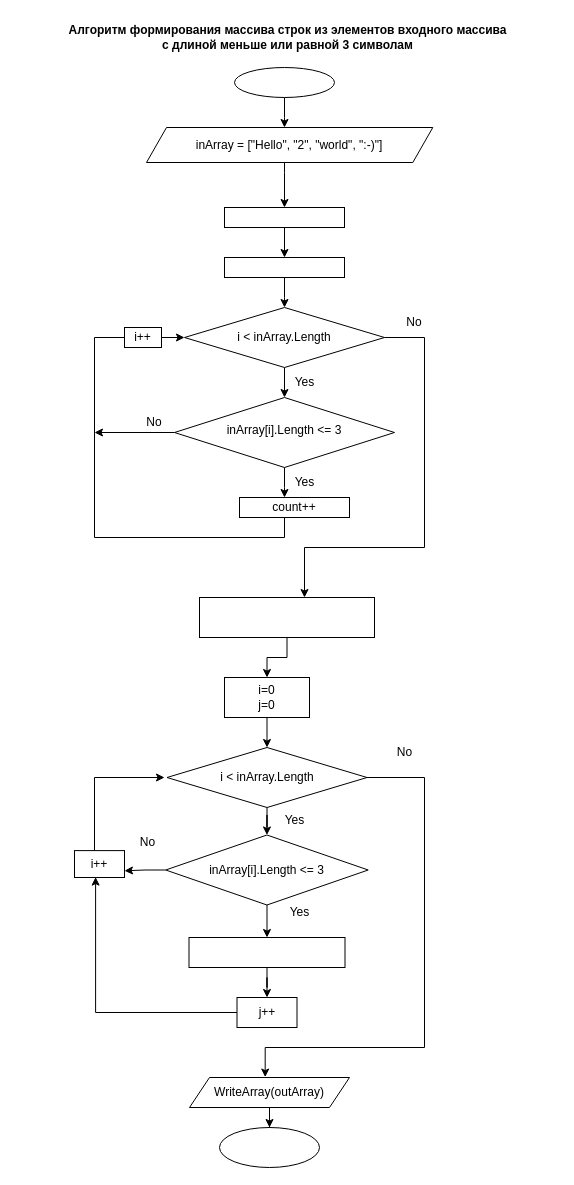
The diagram is 574 pixels wide and 1185 high, and some of its shapes have lost their labels. Here are the shapes that lost their labels. From the top down, the box of each, then its label:
(234, 66, 334, 98): START
(224, 206, 344, 228): count=0
(224, 256, 344, 278): i=0
(198, 596, 374, 638): outArray = new [count]
(188, 936, 345, 968): outArray[j] = inArray[i];
(218, 1126, 320, 1168): End
